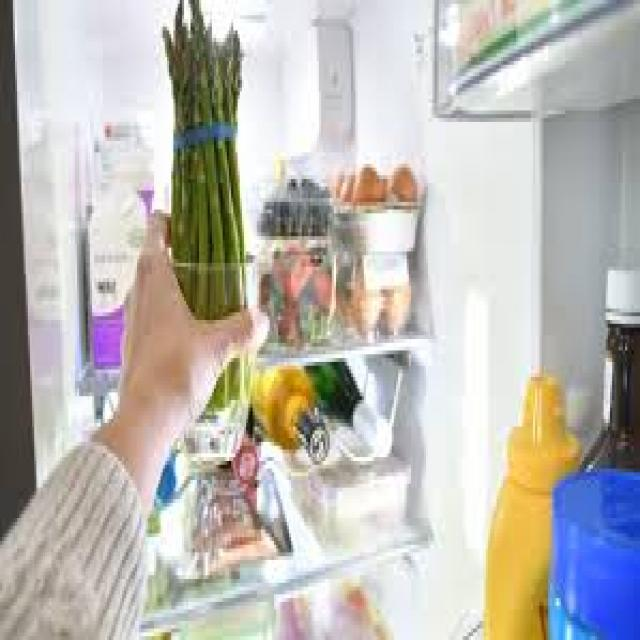asparagus: (142, 7, 264, 307)
eggs: (325, 148, 426, 262)
